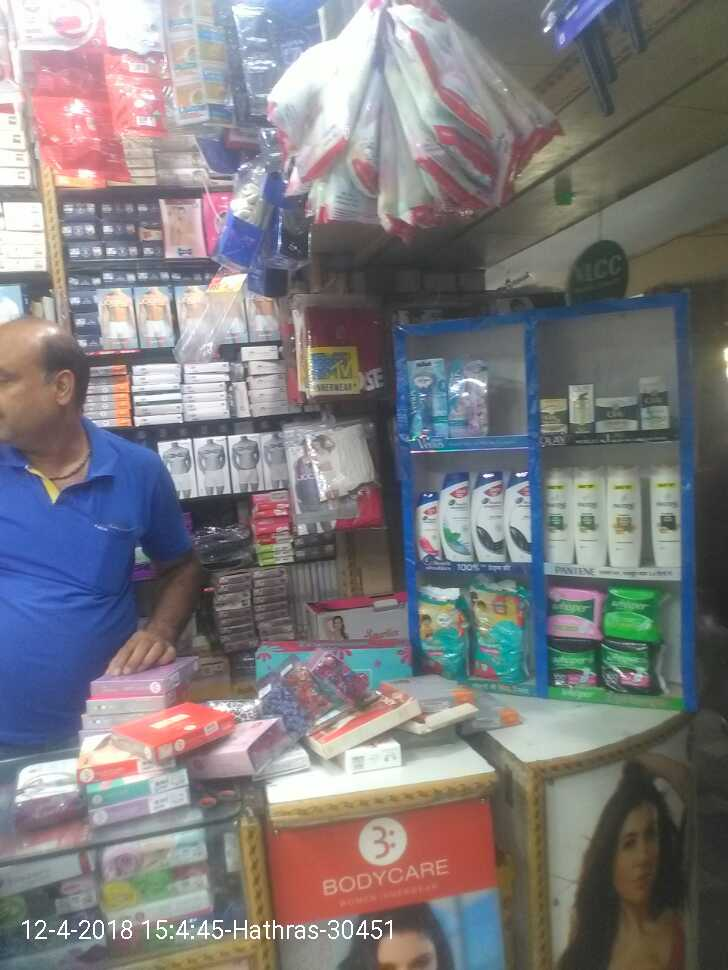venus: (451, 355, 491, 441), (412, 361, 451, 441)
